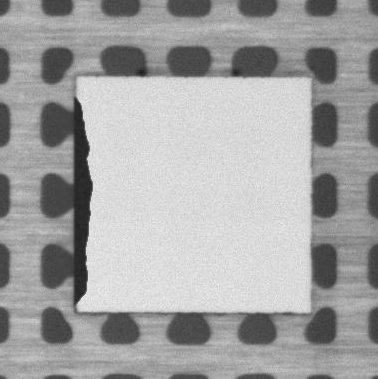DIE_BROKEN: (71, 93, 95, 305)
